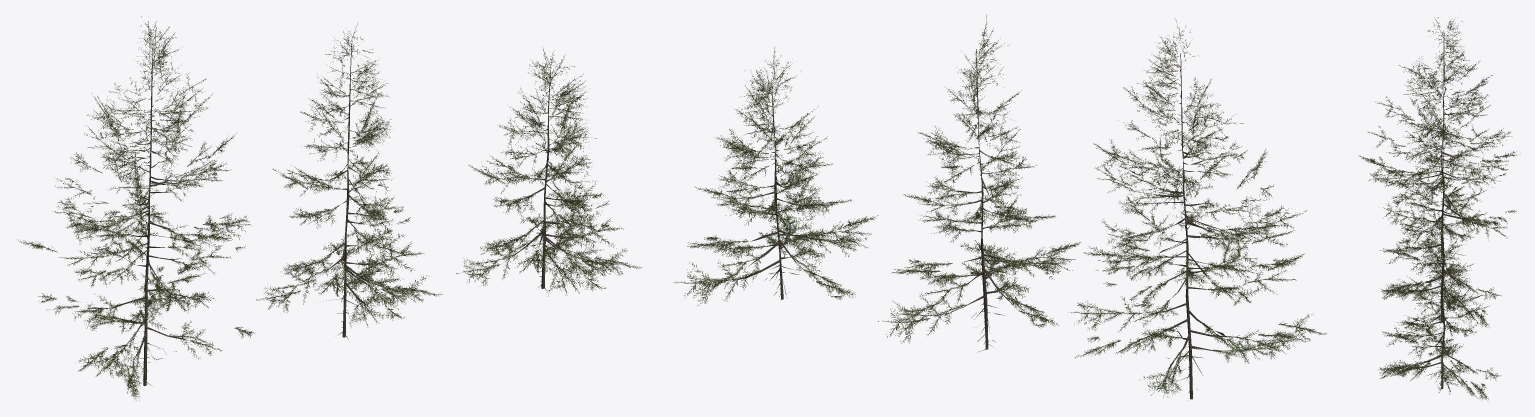
The model's file is village-pbr-fir_sapling_medium.glb.
3 views of the same model, side by side, from view 1: azimuth 30°, elevation 25°; view 2: azimuth 150°, elevation 25°; view 3: azimuth 270°, elevation 25° (orthographic). The views are drawn at different scales.
Parts seen in each view (by area): view 1: fir_sapling_medium_a_LOD0; view 2: fir_sapling_medium_a_LOD0; view 3: fir_sapling_medium_a_LOD0.
Part boxes in pixels (x1=…): fir_sapling_medium_a_LOD0: x1=17, y1=16, x2=642, y2=400; fir_sapling_medium_a_LOD0: x1=673, y1=14, x2=1326, y2=399; fir_sapling_medium_a_LOD0: x1=1359, y1=17, x2=1520, y2=400.
Size of the model in its own units: 14.75 by 8.85 by 5.2.
Materials: 3 (3 with a texture image).
